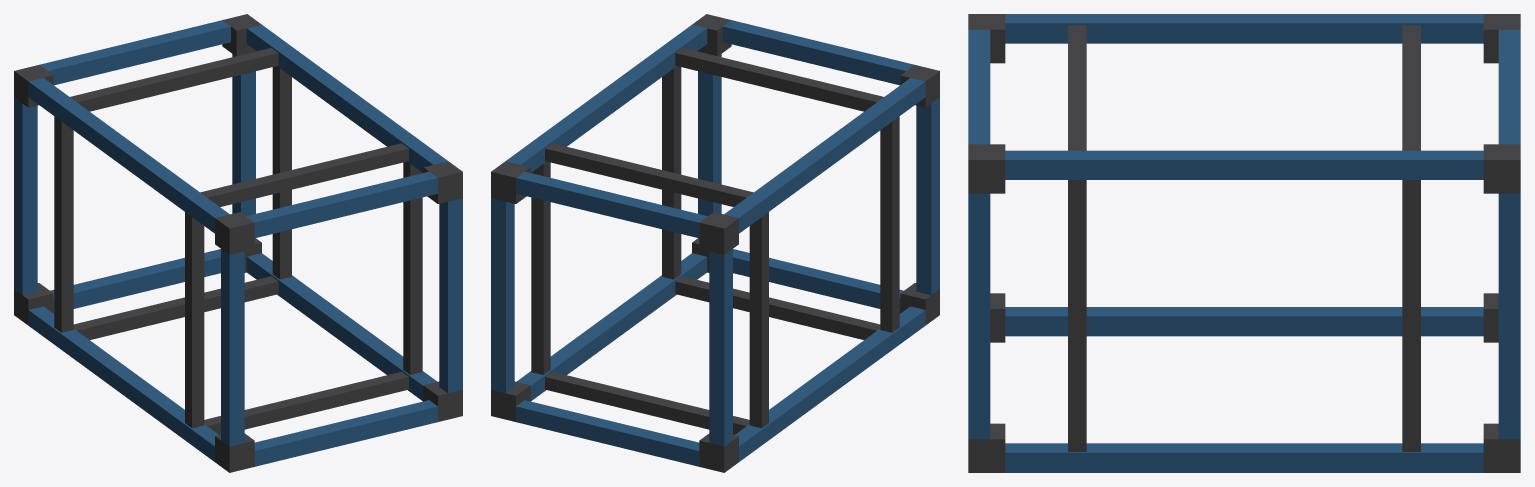
File: jcharge_frame.obj
The picture shows the model from 3 angles, left to right: view 1: azimuth 30°, elevation 25°; view 2: azimuth 150°, elevation 25°; view 3: azimuth 270°, elevation 25°; orthographic projection. The views are drawn at different scales.
Visible parts, largest first — view 1: jcharge_frame; view 2: jcharge_frame; view 3: jcharge_frame.
Part boxes in pixels (x1,y1,x2,y2): jcharge_frame: [14, 14, 462, 472]; jcharge_frame: [491, 14, 939, 472]; jcharge_frame: [968, 14, 1520, 472].
Size of the model in its own units: 0.93 by 0.93 by 1.49.
